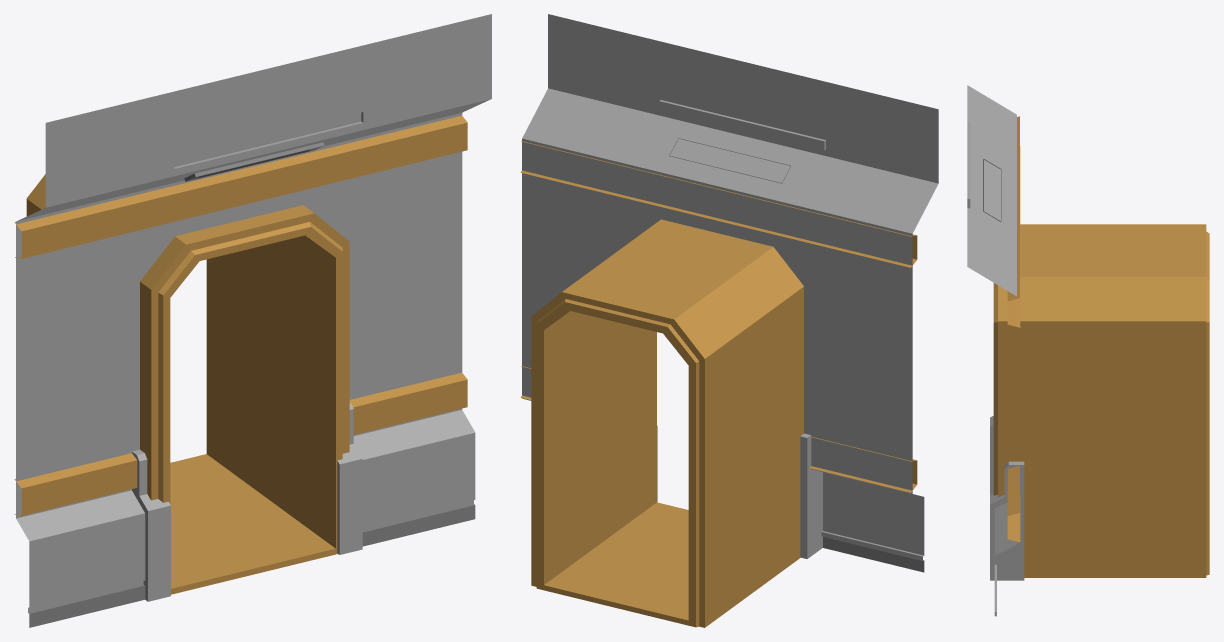
Rendered from DoorSingleLong_Wall_SideA.gltf.
3 renders of one model, left to right at view 1: azimuth 30°, elevation 25°; view 2: azimuth 150°, elevation 25°; view 3: azimuth 270°, elevation 25°, orthographic. The views are drawn at different scales.
Parts seen in each view (by area): view 1: DoorSingleLong_Wall_SideA; view 2: DoorSingleLong_Wall_SideA; view 3: DoorSingleLong_Wall_SideA.
Part boxes in pixels (x1=…): DoorSingleLong_Wall_SideA: x1=14, y1=14, x2=491, y2=627; DoorSingleLong_Wall_SideA: x1=520, y1=14, x2=938, y2=627; DoorSingleLong_Wall_SideA: x1=967, y1=85, x2=1209, y2=616.
Size of the model in its own units: 4 by 4.44 by 2.25.
